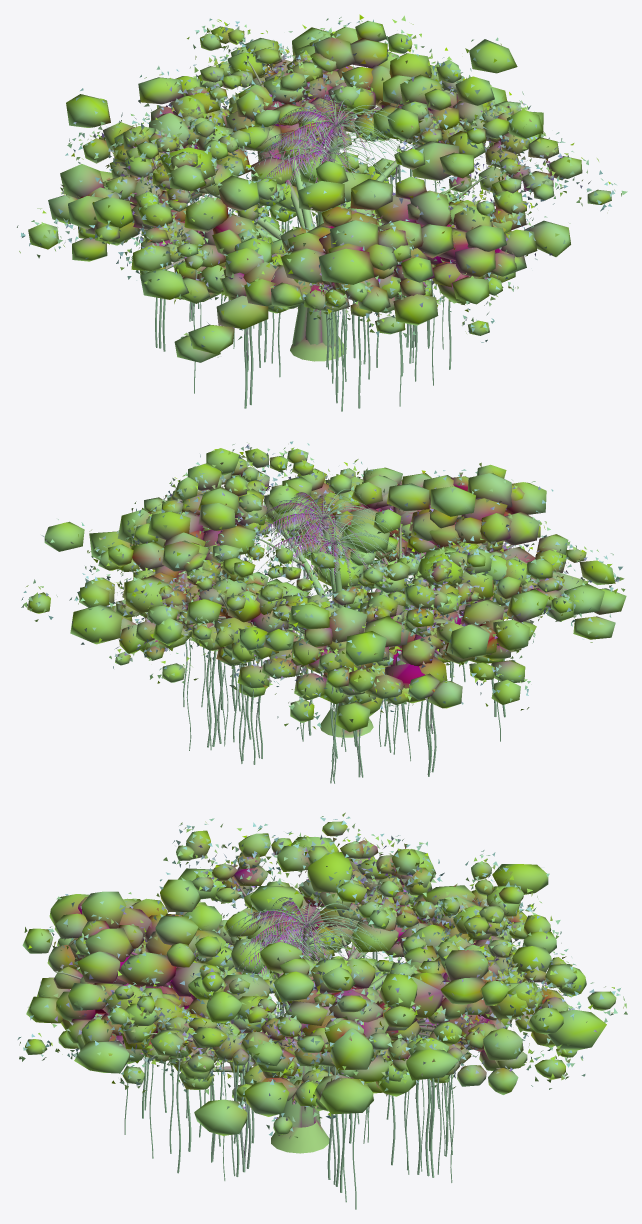
The model's file is trees.glb.
3 views of the same model, one above another, from view 1: azimuth 30°, elevation 25°; view 2: azimuth 150°, elevation 25°; view 3: azimuth 270°, elevation 25° (orthographic). The views are drawn at different scales.
Visible parts, largest first — view 1: banyan_far, banyan, raintree_far, palm1, palm0, raintree, palm1_far, palm0_far; view 2: banyan_far, banyan, raintree_far, palm1, palm0, palm1_far, palm0_far, raintree; view 3: banyan_far, banyan, raintree_far, palm1, raintree, palm1_far, palm0, palm0_far.
Part boxes in pixels (box(x1,y1,x2,y2)): banyan_far: box(48, 14, 570, 408); banyan: box(17, 15, 627, 411); raintree_far: box(166, 164, 434, 315); palm1: box(261, 94, 404, 210); palm0: box(258, 124, 399, 225); raintree: box(193, 149, 457, 311); palm1_far: box(269, 100, 400, 210); palm0_far: box(251, 128, 397, 225); banyan_far: box(41, 448, 626, 777); banyan: box(21, 441, 625, 783); raintree_far: box(190, 553, 520, 716); palm1: box(254, 492, 396, 606); palm0: box(258, 518, 405, 608); palm1_far: box(263, 489, 392, 603); palm0_far: box(257, 516, 401, 606); raintree: box(203, 541, 506, 706); banyan_far: box(22, 837, 608, 1201); banyan: box(17, 812, 627, 1209); raintree_far: box(166, 905, 422, 1135); palm1: box(238, 901, 388, 1040); raintree: box(143, 936, 455, 1138); palm1_far: box(222, 897, 375, 1040); palm0: box(224, 920, 382, 978); palm0_far: box(230, 922, 381, 978).
Size of the model in its own units: 32.38 by 16.32 by 32.9.
